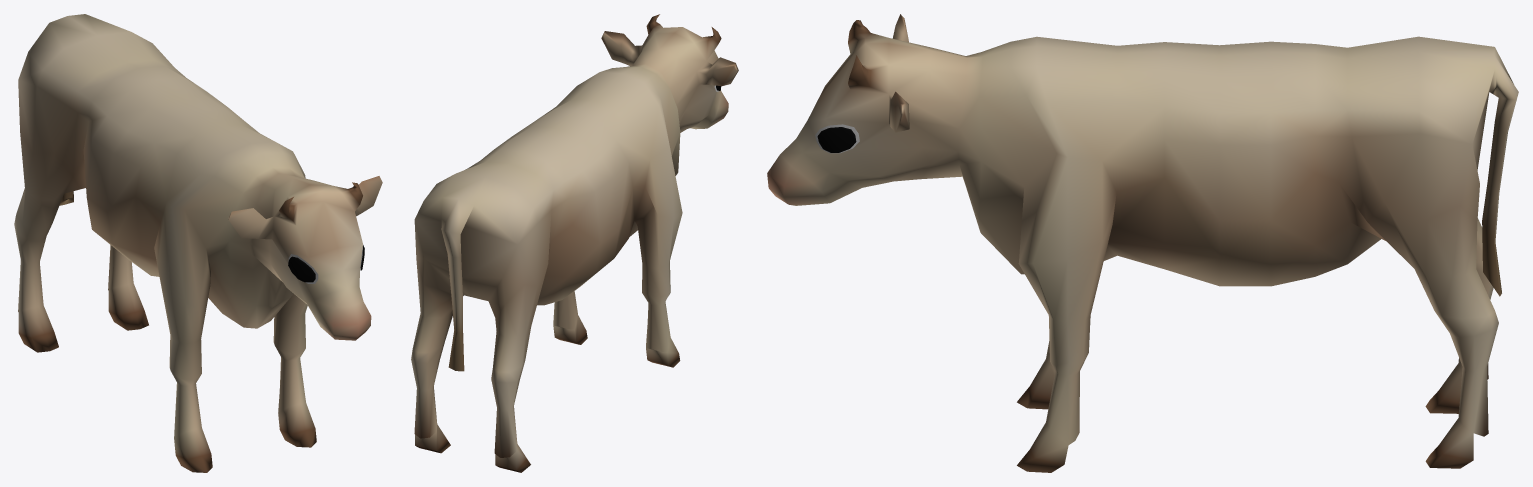
The model's file is animals-animals-whitecow_v1.glb.
The picture shows the model from 3 angles, left to right: view 1: azimuth 30°, elevation 25°; view 2: azimuth 150°, elevation 25°; view 3: azimuth 270°, elevation 25°; orthographic projection. The views are drawn at different scales.
Visible parts, largest first — view 1: WhiteCow_v1; view 2: WhiteCow_v1; view 3: WhiteCow_v1.
Boxes of the visible parts, box(x1,y1,x2,y2) form: WhiteCow_v1: box(14, 14, 382, 472); WhiteCow_v1: box(411, 14, 738, 472); WhiteCow_v1: box(767, 14, 1518, 472).
Bounding box in the file's own units: 0.6662 × 1.31 × 2.26.
